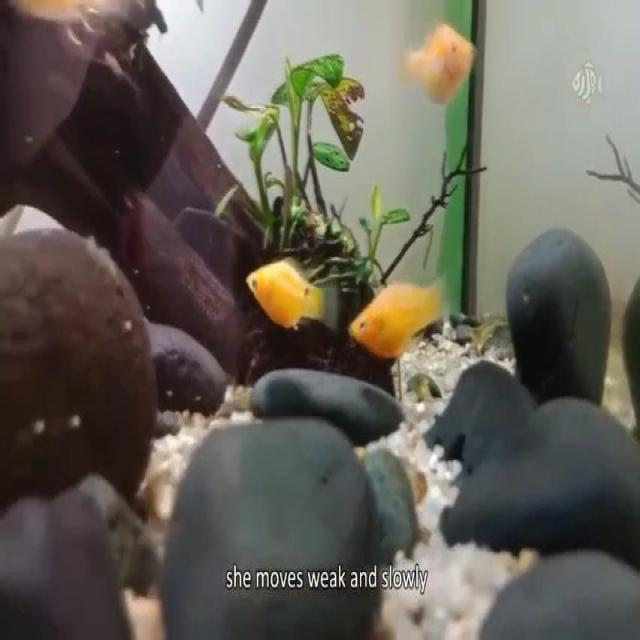PlatyFish: (349, 249, 464, 367), (237, 238, 342, 343), (390, 12, 487, 112)
